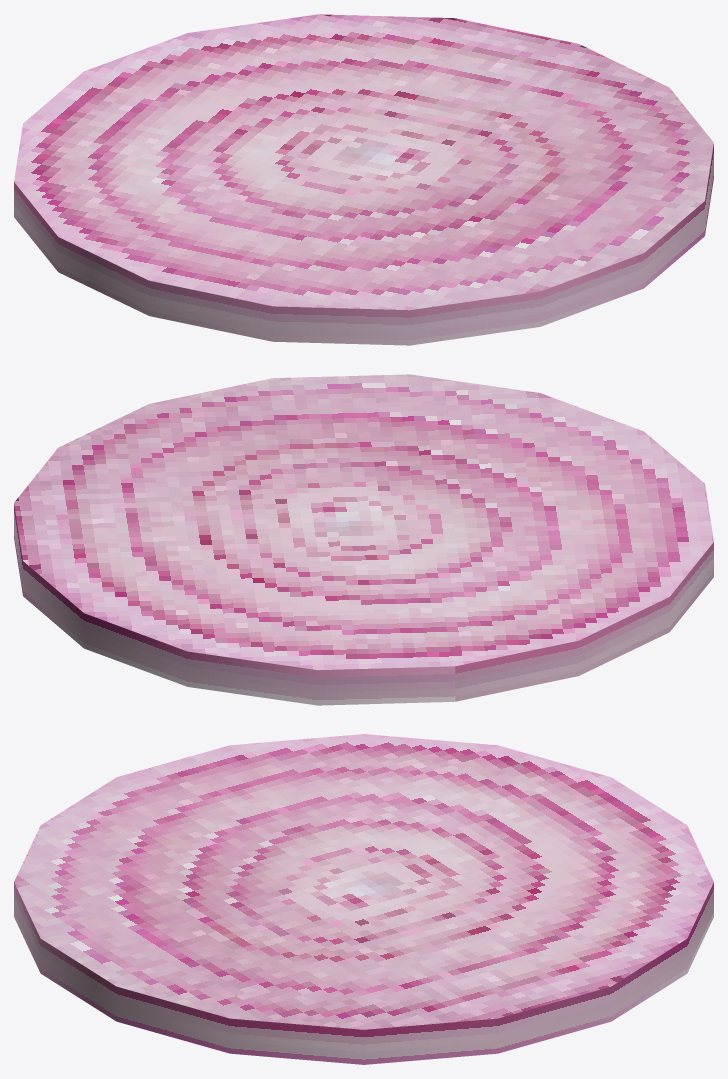
File: onion.glb
3 views of the same model, one above another, from view 1: azimuth 30°, elevation 25°; view 2: azimuth 150°, elevation 25°; view 3: azimuth 270°, elevation 25° (orthographic).
Visible parts, largest first — view 1: Cylinder.010; view 2: Cylinder.010; view 3: Cylinder.010.
Part boxes in pixels (x1=…): Cylinder.010: x1=14, y1=14, x2=713, y2=345; Cylinder.010: x1=14, y1=374, x2=713, y2=705; Cylinder.010: x1=14, y1=734, x2=713, y2=1064.
Bounding box in the file's own units: 8.75 × 0.4838 × 8.75.
1 material, 1 textured.
